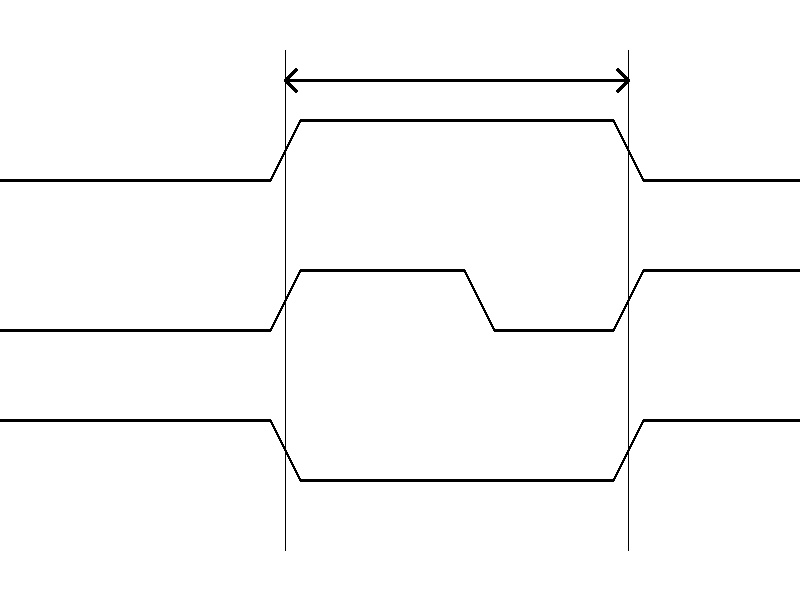double_arrow: (285, 65, 628, 95)
